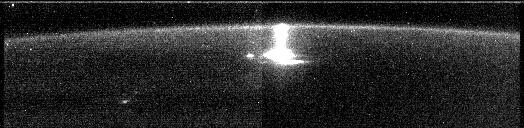positive: (271, 22, 291, 50)
